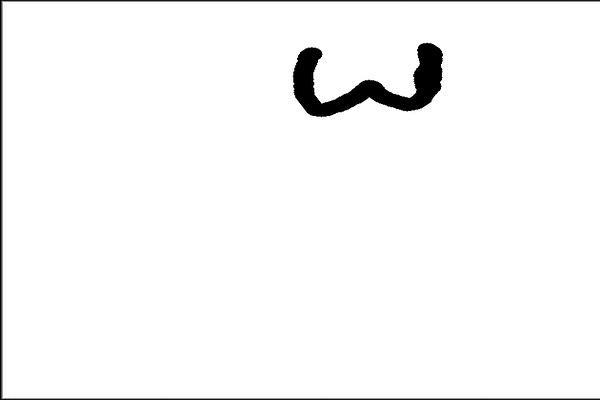w: (280, 25, 455, 130)
